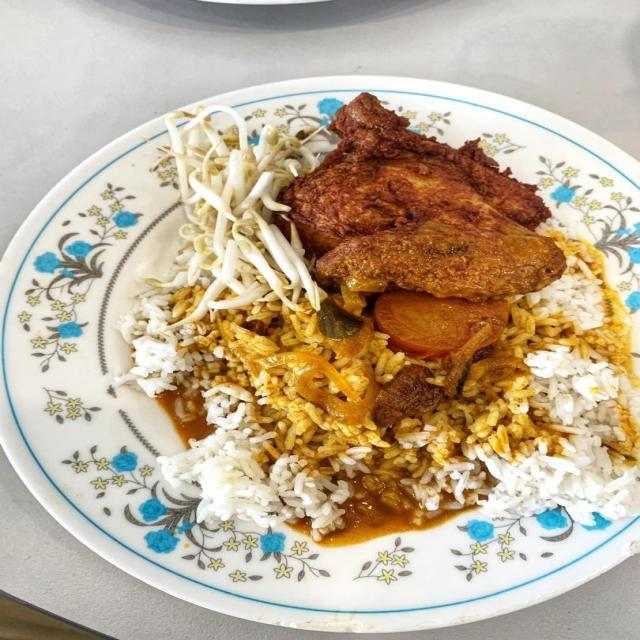Chicken: (284, 94, 562, 301)
Plate: (0, 116, 639, 629)
Rice: (113, 240, 635, 524)
Vegetables: (144, 110, 331, 305)
